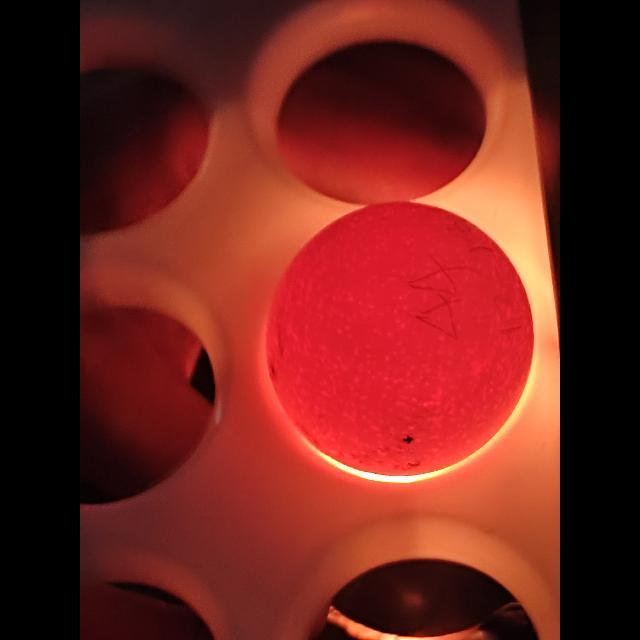Infertile: (266, 198, 536, 474)
